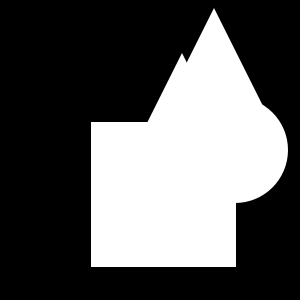circle: (91, 122, 236, 267)
rectangle: (182, 97, 288, 203)
triangle: (149, 8, 279, 138), (123, 53, 241, 171), (174, 83, 187, 96)
